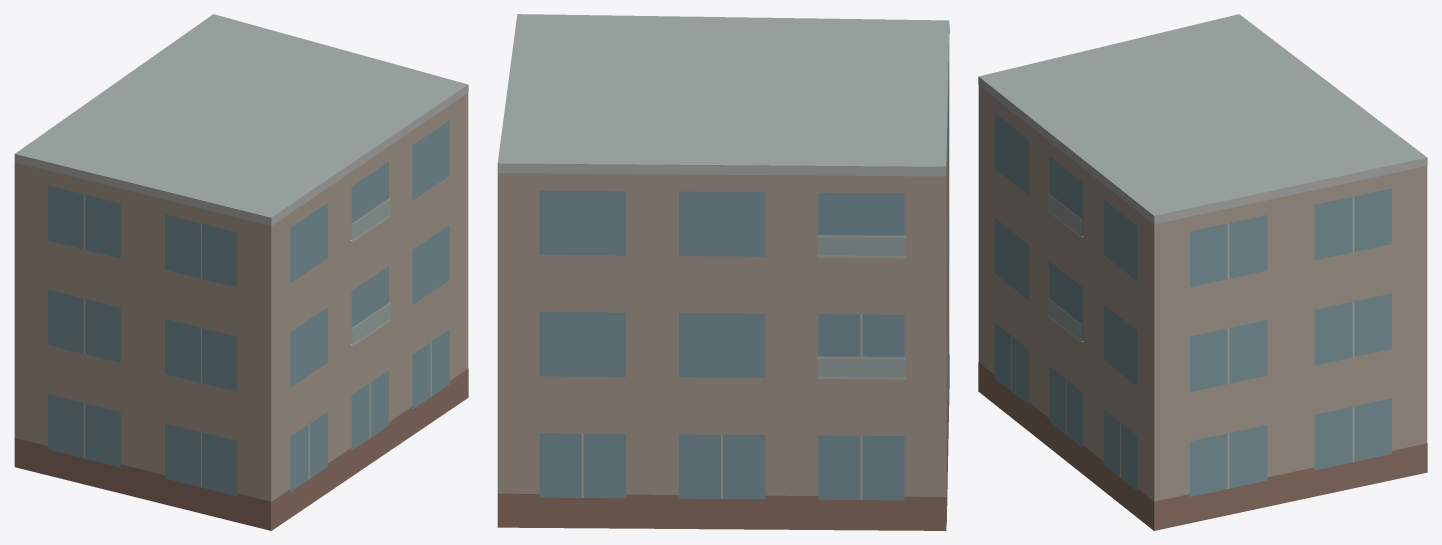
The model's file is survey-upis-32882767.glb.
3 views of the same model, side by side, from view 1: azimuth 30°, elevation 25°; view 2: azimuth 150°, elevation 25°; view 3: azimuth 270°, elevation 25° (orthographic). The views are drawn at different scales.
Visible parts, largest first — view 1: survey-upis-32882767.tmp; view 2: survey-upis-32882767.tmp; view 3: survey-upis-32882767.tmp.
Boxes of the visible parts, <box> form: survey-upis-32882767.tmp: <box>14,14,468,530</box>; survey-upis-32882767.tmp: <box>497,14,949,530</box>; survey-upis-32882767.tmp: <box>978,14,1427,530</box>.
Size of the model in its own units: 12.59 by 9.15 by 11.83.
